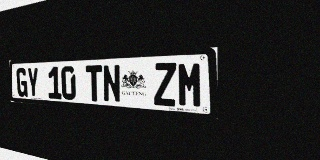0: (61, 66, 76, 100)
1: (48, 66, 61, 99)
G: (16, 68, 28, 97)
M: (177, 61, 203, 108)
N: (102, 64, 121, 103)
T: (86, 65, 103, 102)
Y: (27, 67, 39, 98)
Z: (153, 62, 177, 107)
